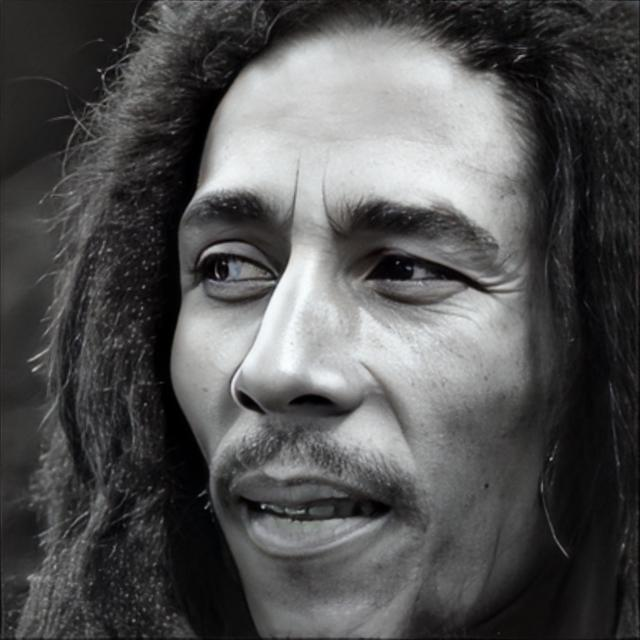neutral: (169, 19, 574, 640)
